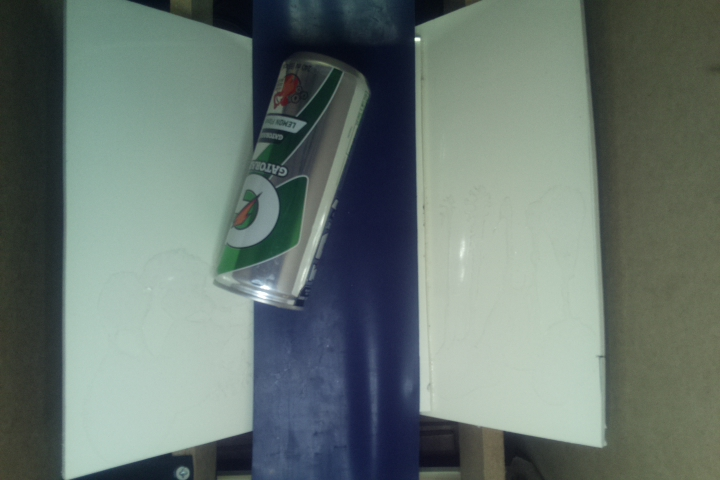can: (215, 49, 370, 315)
